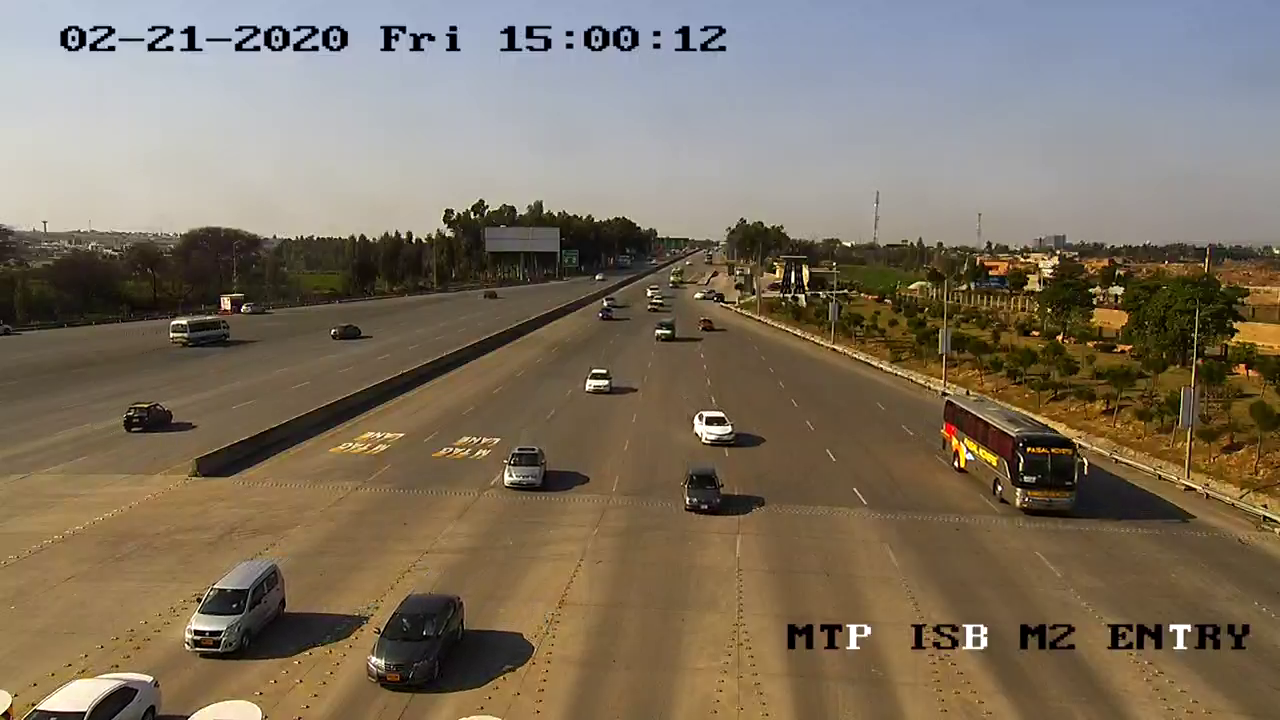f1: (359, 579, 476, 701), (173, 551, 291, 661), (491, 440, 559, 495), (676, 465, 734, 521), (685, 403, 746, 452)
f4: (922, 386, 1095, 526)
